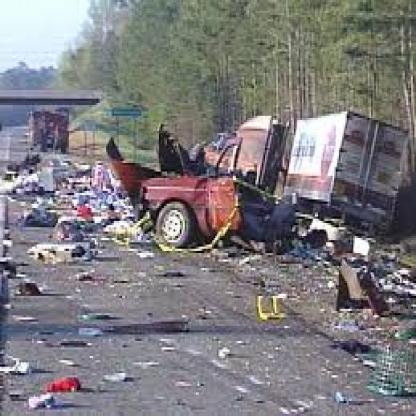accident: (79, 99, 416, 287)
